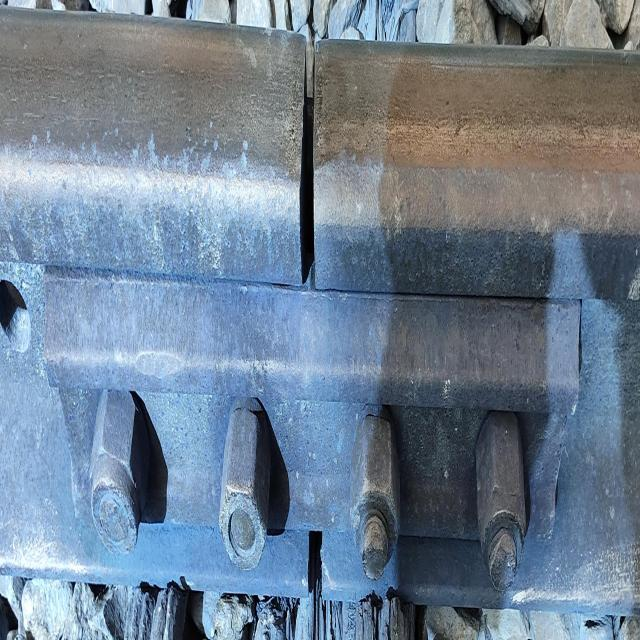Good Joint: (4, 145, 640, 614)
